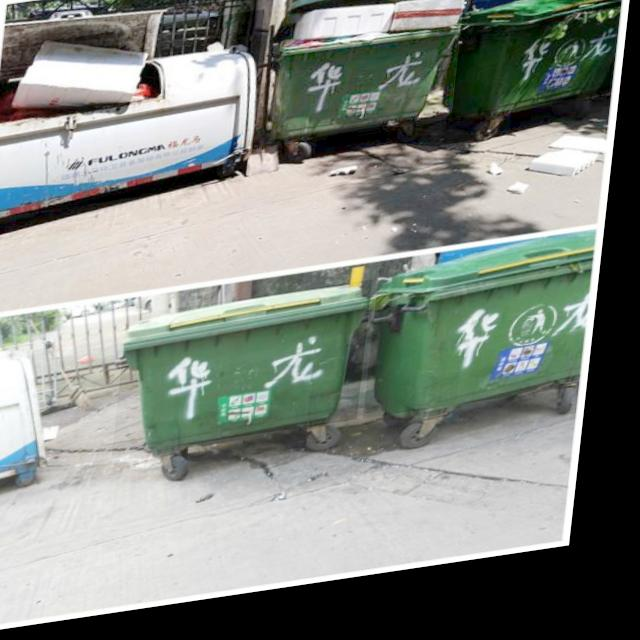garbage: (486, 148, 610, 214)
garbage_bin: (123, 292, 380, 461), (374, 248, 603, 431), (456, 0, 623, 132)
overflow: (0, 17, 266, 220), (274, 3, 469, 149)
